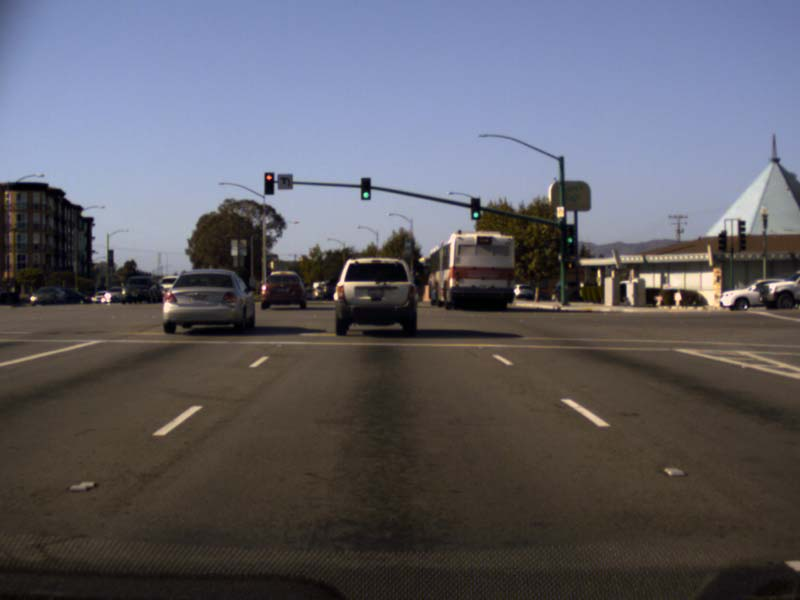Green: (565, 226, 574, 254), (360, 177, 370, 199), (470, 197, 479, 219)
Red: (263, 171, 273, 195)
